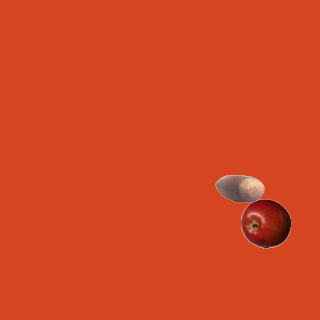Apple Braeburn: (240, 198, 290, 248)
Hazelnut: (214, 163, 264, 213)
